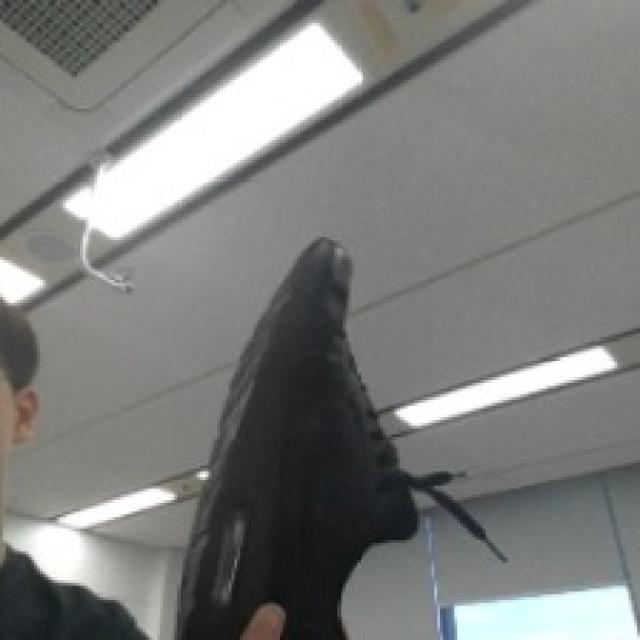shoes: (174, 231, 420, 640)
